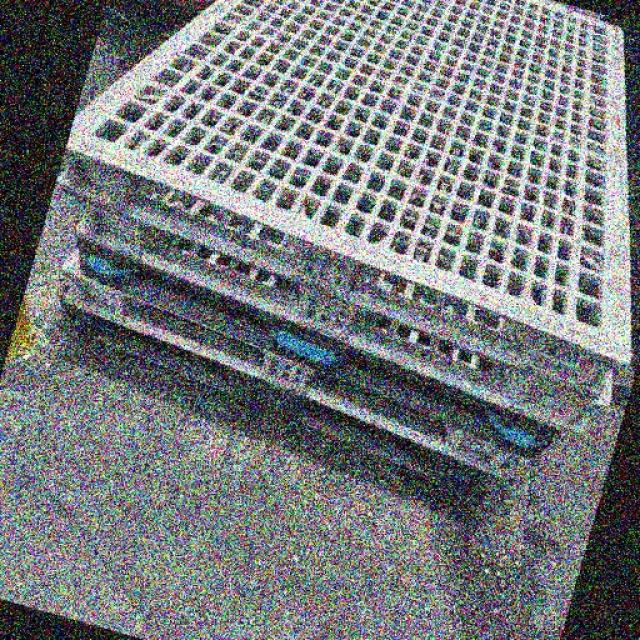non-igps: (47, 0, 640, 419), (66, 197, 624, 446), (48, 243, 544, 492), (65, 228, 568, 469), (50, 292, 505, 514), (49, 315, 490, 535)
